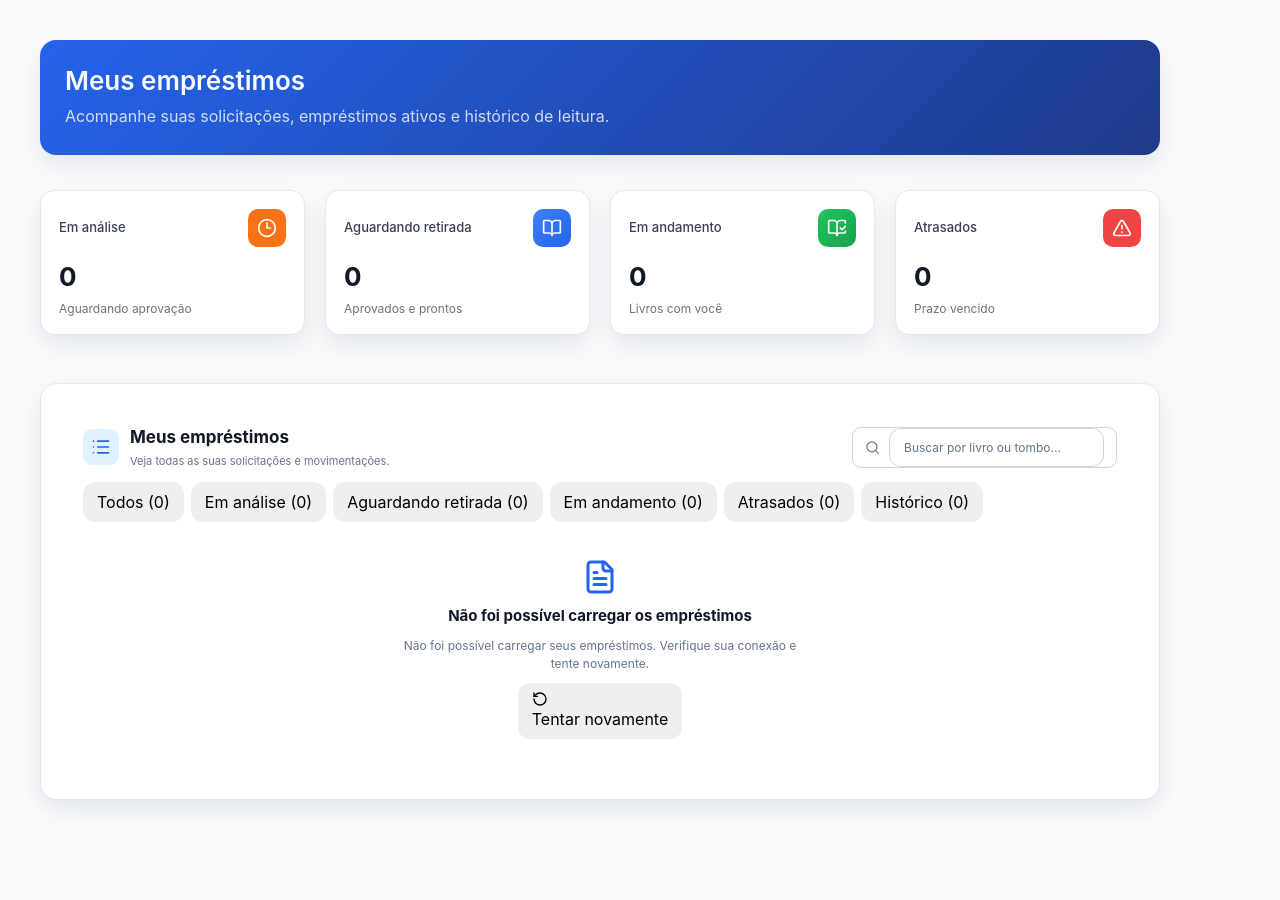
Test case: erro da API permite tentar novamente
expect the heading "Não foi possível carregar os empréstimos" is shown: met, box 448,605 -> 752,627
Click the button "Tentar novamente" at (600, 711), box 518,683 -> 682,739
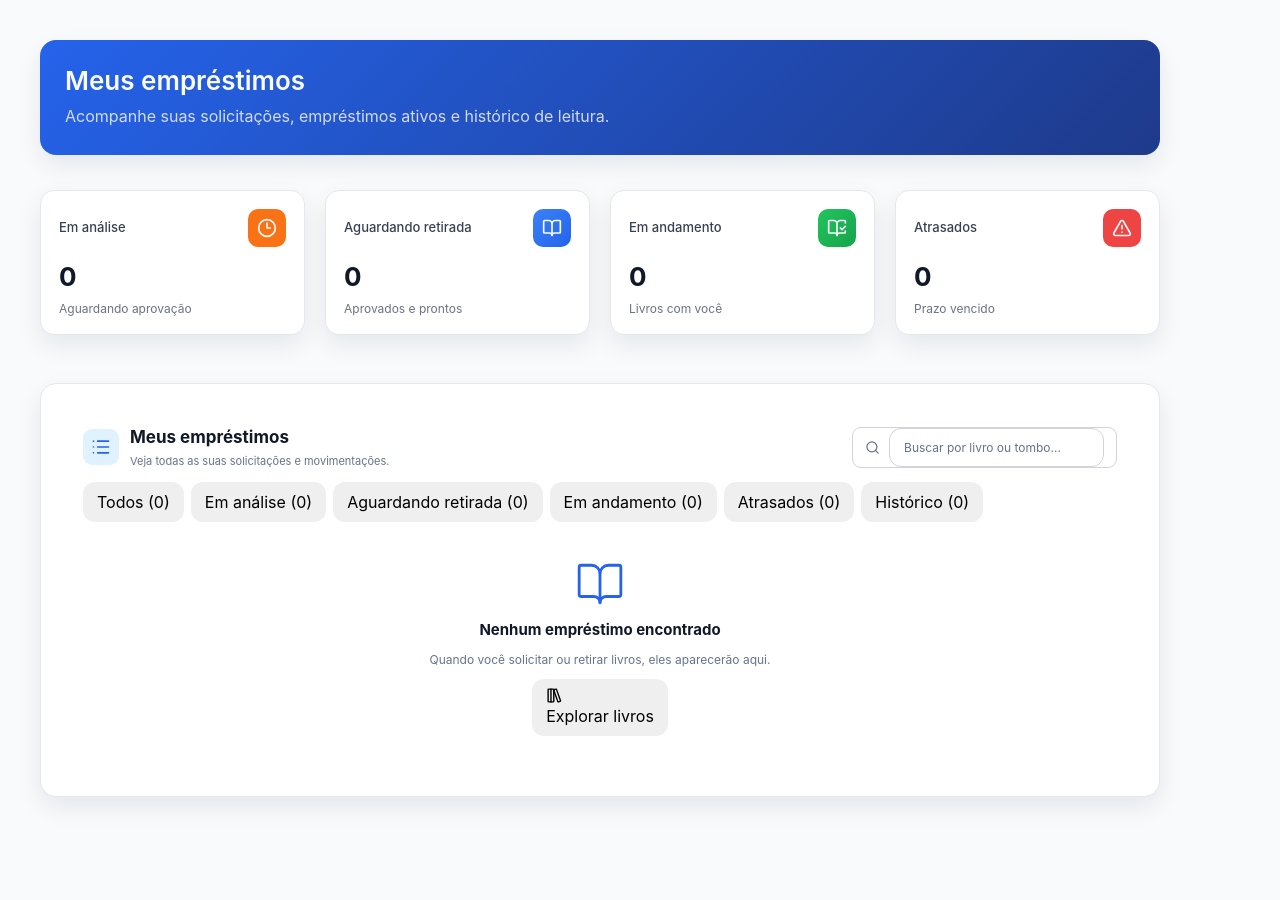
expect the heading "Nenhum empréstimo encontrado" is shown: met, box 479,619 -> 721,641
